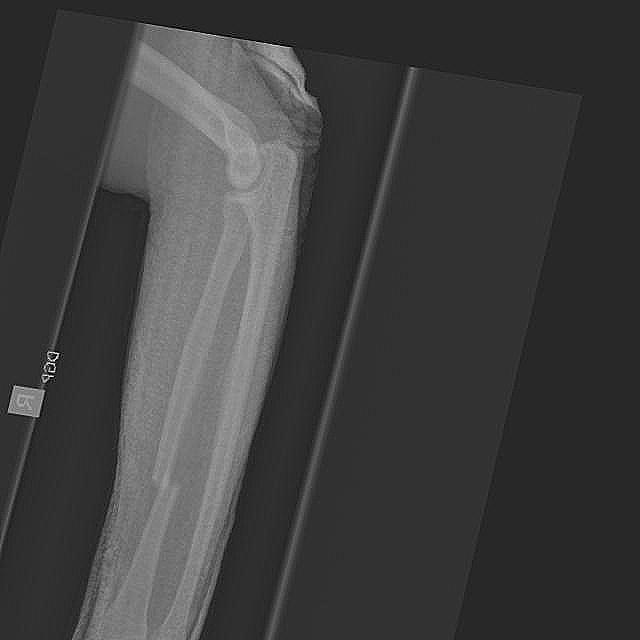bone: (136, 410, 197, 534)
